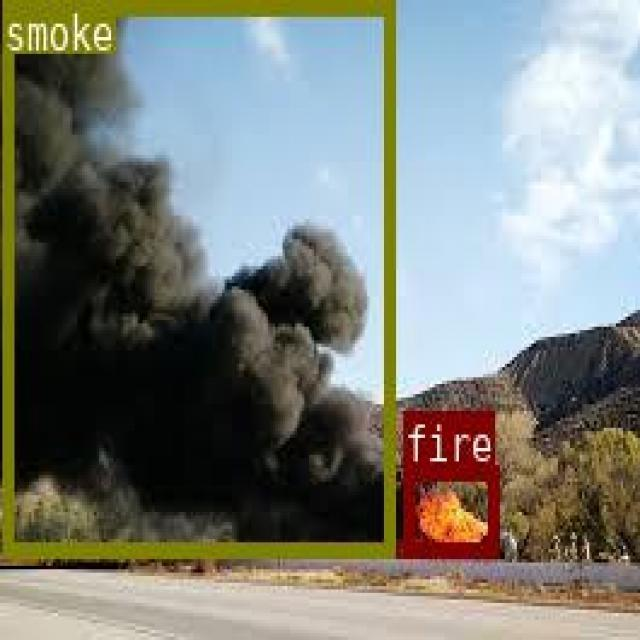fire: (401, 465, 497, 555)
smoke: (0, 0, 394, 556)
